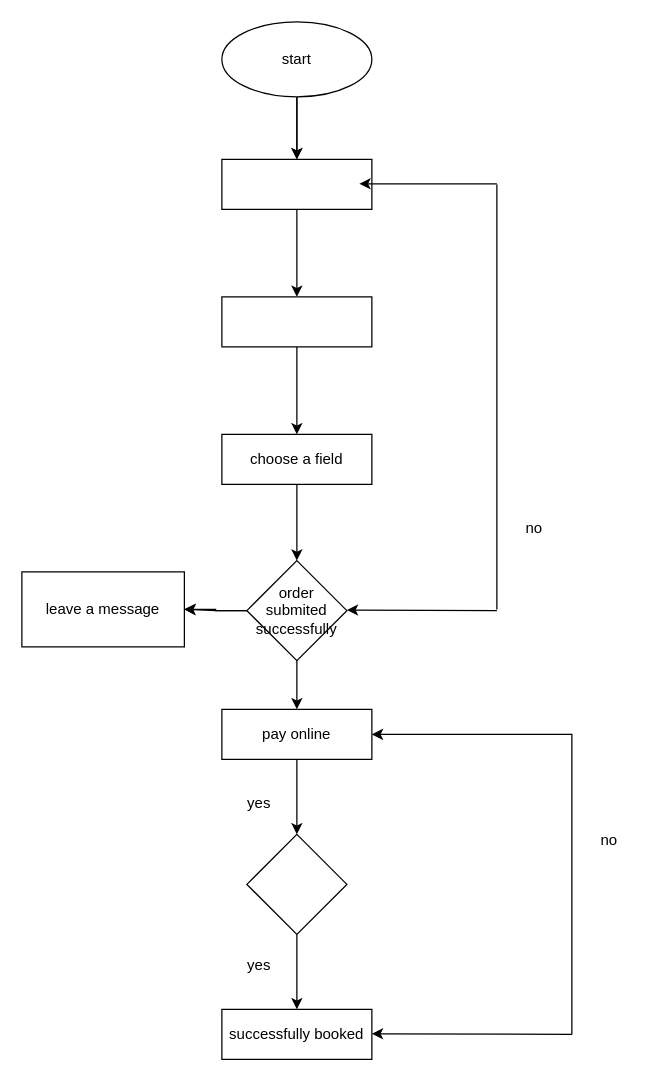
Some shapes in this 669 by 1081 pixel diagram are drawn without their labels. Each missing label, with the centre of its shape:
"choose a hall" goes at (296,321).
"pay sucess" goes at (296,883).
"venue booking" goes at (296,183).
